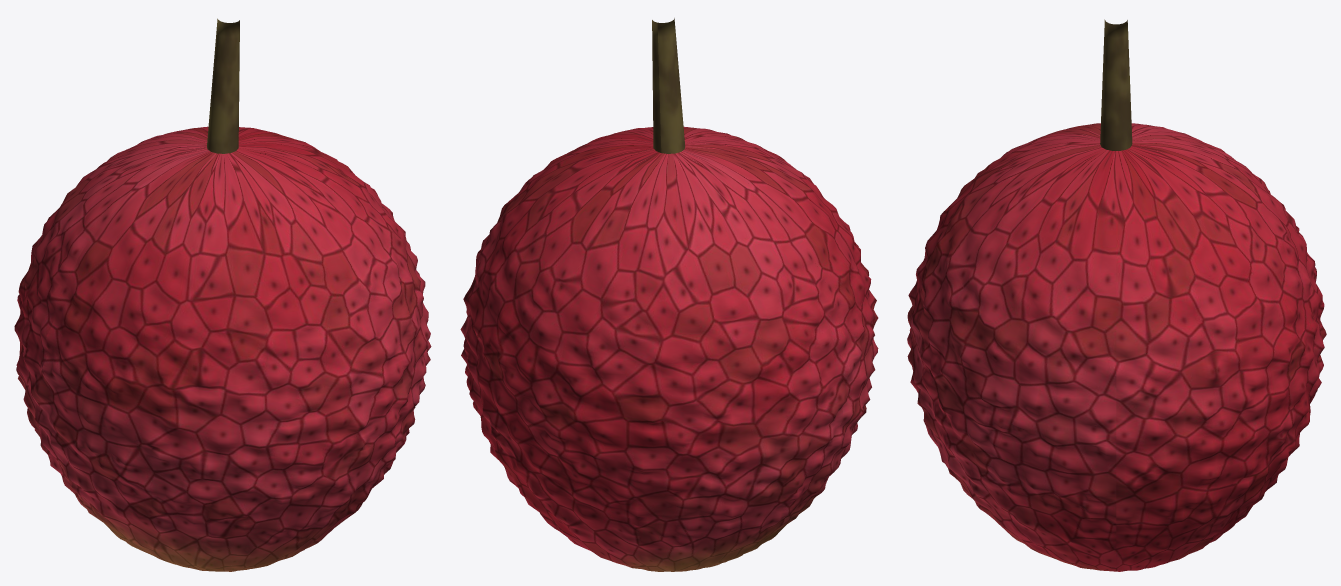
Rendered from letchi.glb.
The picture shows the model from 3 angles, left to right: view 1: azimuth 30°, elevation 25°; view 2: azimuth 150°, elevation 25°; view 3: azimuth 270°, elevation 25°; orthographic projection.
Parts seen in each view (by area): view 1: entier_peau, moitie_A_peau, moitie_B_peau, entier_extra0; view 2: moitie_B_peau, entier_peau, moitie_A_peau, entier_extra0; view 3: entier_peau, moitie_B_peau, moitie_A_peau, entier_extra0.
Boxes of the visible parts, box(x1,y1,x2,y2) form: entier_peau: box(16, 127, 430, 571); moitie_A_peau: box(41, 143, 431, 571); moitie_B_peau: box(14, 126, 337, 532); entier_extra0: box(207, 18, 239, 153); moitie_B_peau: box(460, 141, 850, 571); entier_peau: box(462, 127, 878, 571); moitie_A_peau: box(545, 127, 878, 530); entier_extra0: box(652, 18, 685, 153); entier_peau: box(907, 123, 1326, 571); moitie_B_peau: box(1116, 123, 1325, 571); moitie_A_peau: box(907, 123, 1116, 571); entier_extra0: box(1100, 19, 1132, 150).
Size of the model in its own units: 0.033 by 0.047 by 0.033.
Materials: 3 (3 with a texture image).
